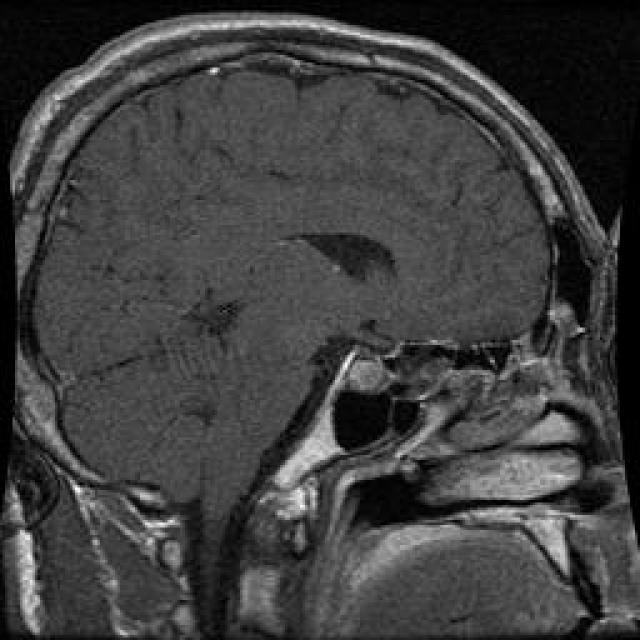pituitary: (334, 348, 396, 404)
